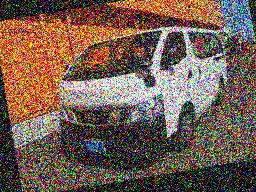van: (45, 17, 242, 176)
